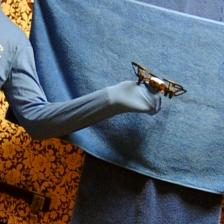drone: (130, 62, 188, 100)
